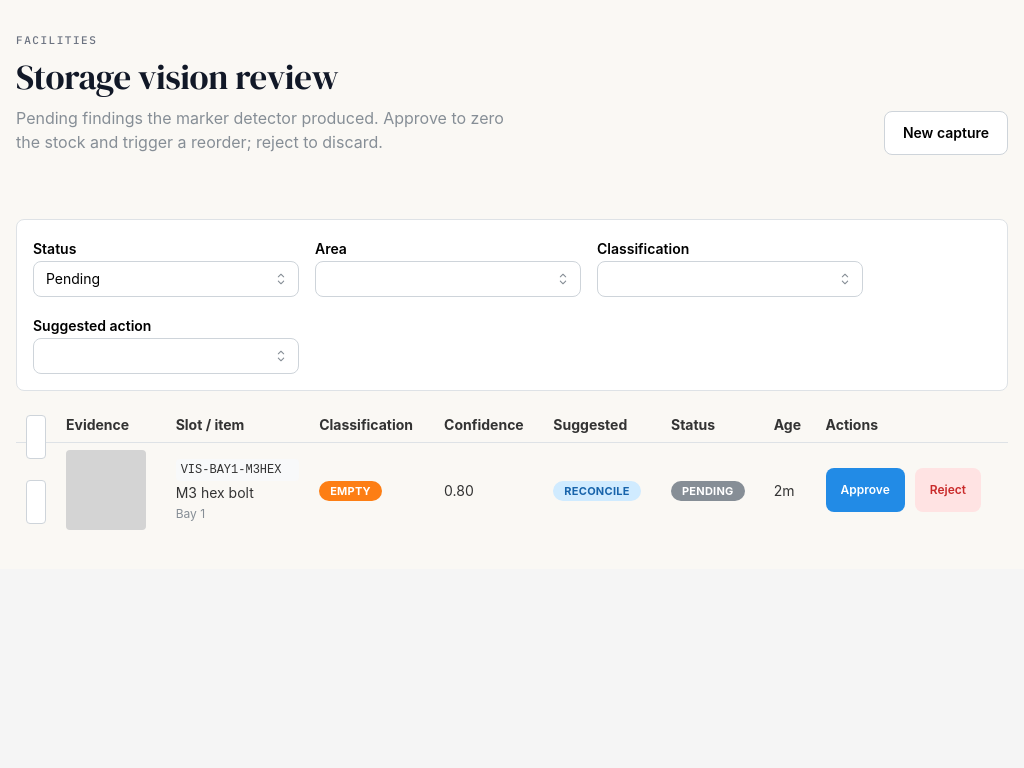
Test case: StorageVisionReviewPage › reject requires a reason (AC-24)
Click the button with test id "reject-11": (948, 490) [915,468,981,512]
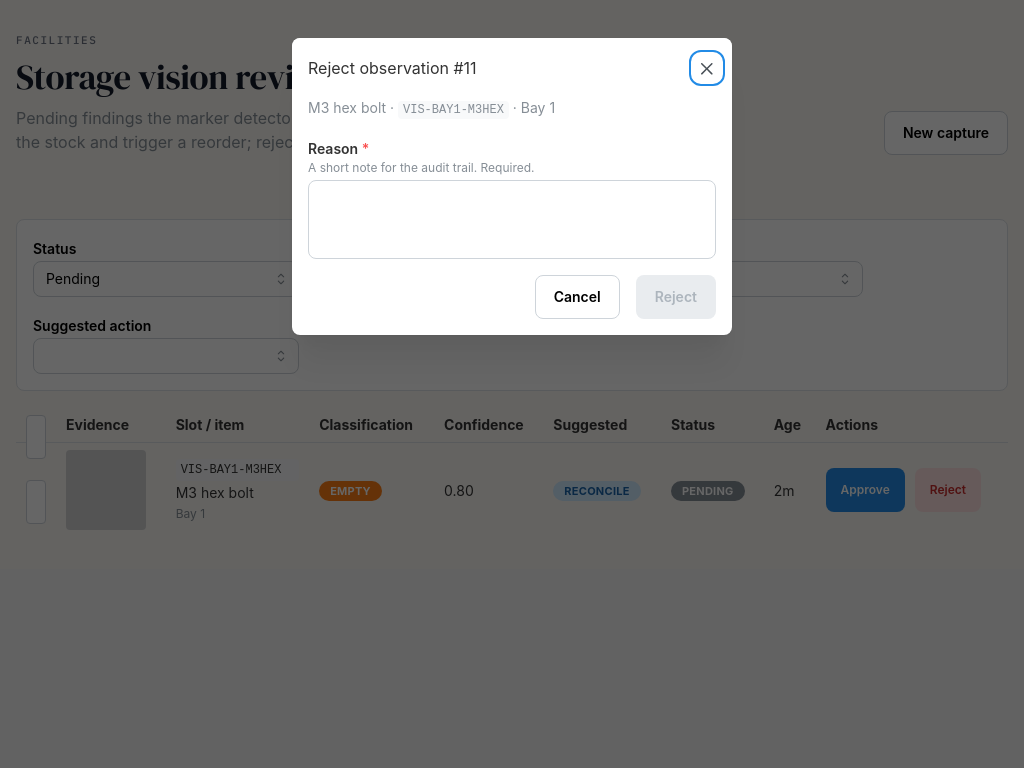
Result: the button with test id "reject-confirm" is disabled at [636,275,716,319]
In the text box with test id "reject-reason": (512, 220) [308,180,716,259], type "glare on the bin"
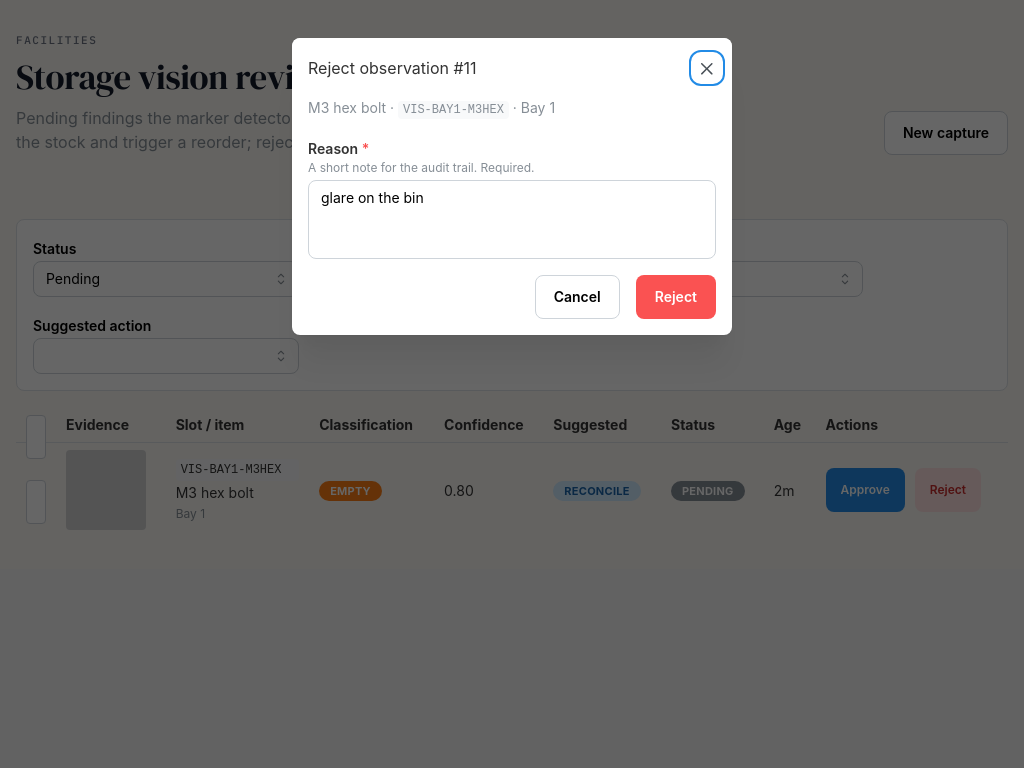
Result: the button with test id "reject-confirm" is enabled
Click the button with test id "reject-confirm": (676, 297) [636,275,716,319]
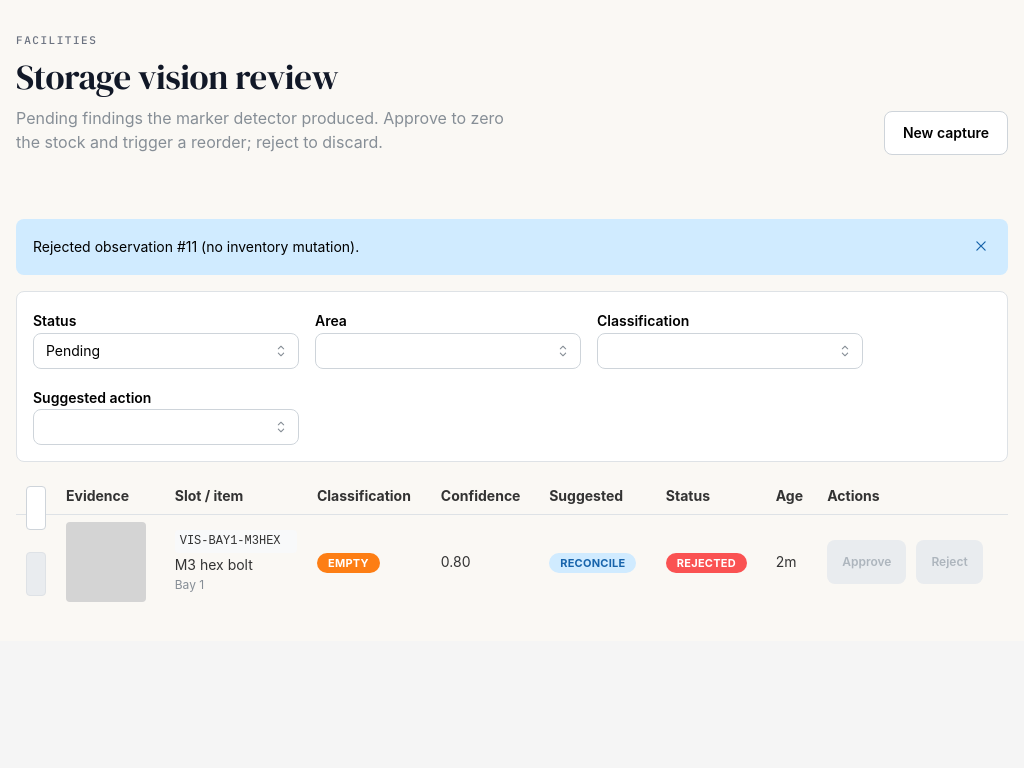
Result: the message with test id "review-resolution-alert" shows "Rejected observation #11" at [33,238,359,255]
